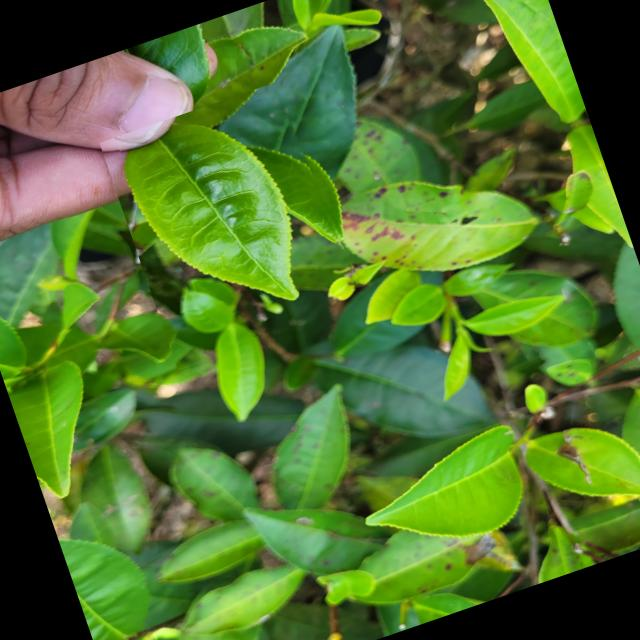Category B(2-4 days): (99, 77, 368, 373)
